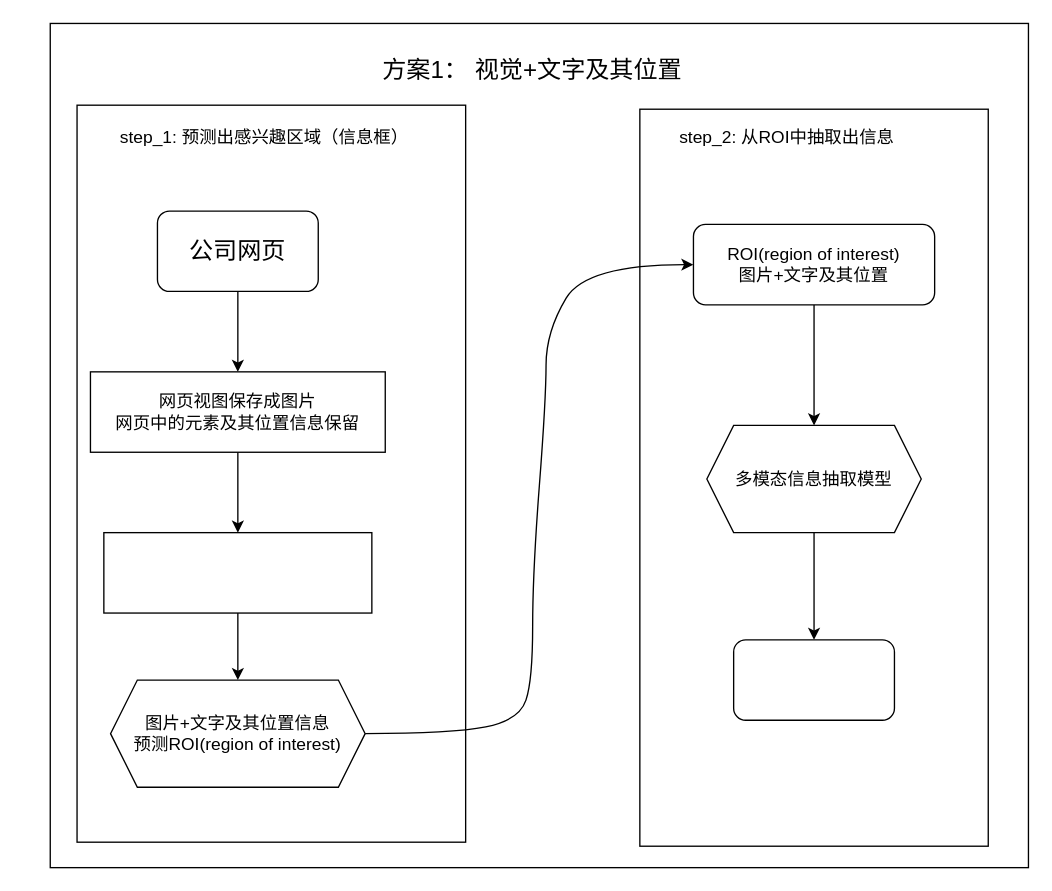
Some shapes in this 1052 by 891 pixel diagram are drawn without their labels. Each missing label, with the centre of its shape:
"拆分成固定size的子图片" belongs at point (237, 572).
"结构化的信息" belongs at point (813, 679).
